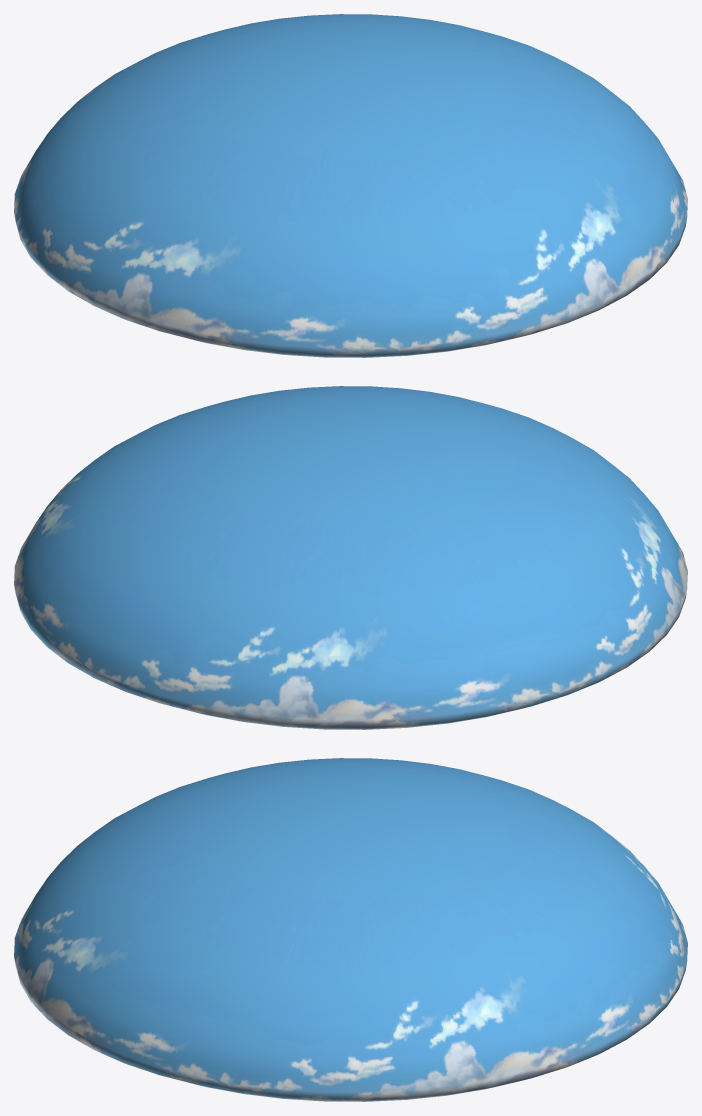
File: Air Temple island  skybox.obj
3 renders of one model, top to bottom at view 1: azimuth 30°, elevation 25°; view 2: azimuth 150°, elevation 25°; view 3: azimuth 270°, elevation 25°, orthographic.
Parts seen in each view (by area): view 1: mesh00-SCR_MESH.024; view 2: mesh00-SCR_MESH.024; view 3: mesh00-SCR_MESH.024.
Part boxes in pixels (bbox=[...]): mesh00-SCR_MESH.024: bbox=[14, 14, 687, 357]; mesh00-SCR_MESH.024: bbox=[14, 386, 687, 729]; mesh00-SCR_MESH.024: bbox=[14, 758, 687, 1101].
Bounding box in the file's own units: 5153 × 1430 × 5153.
